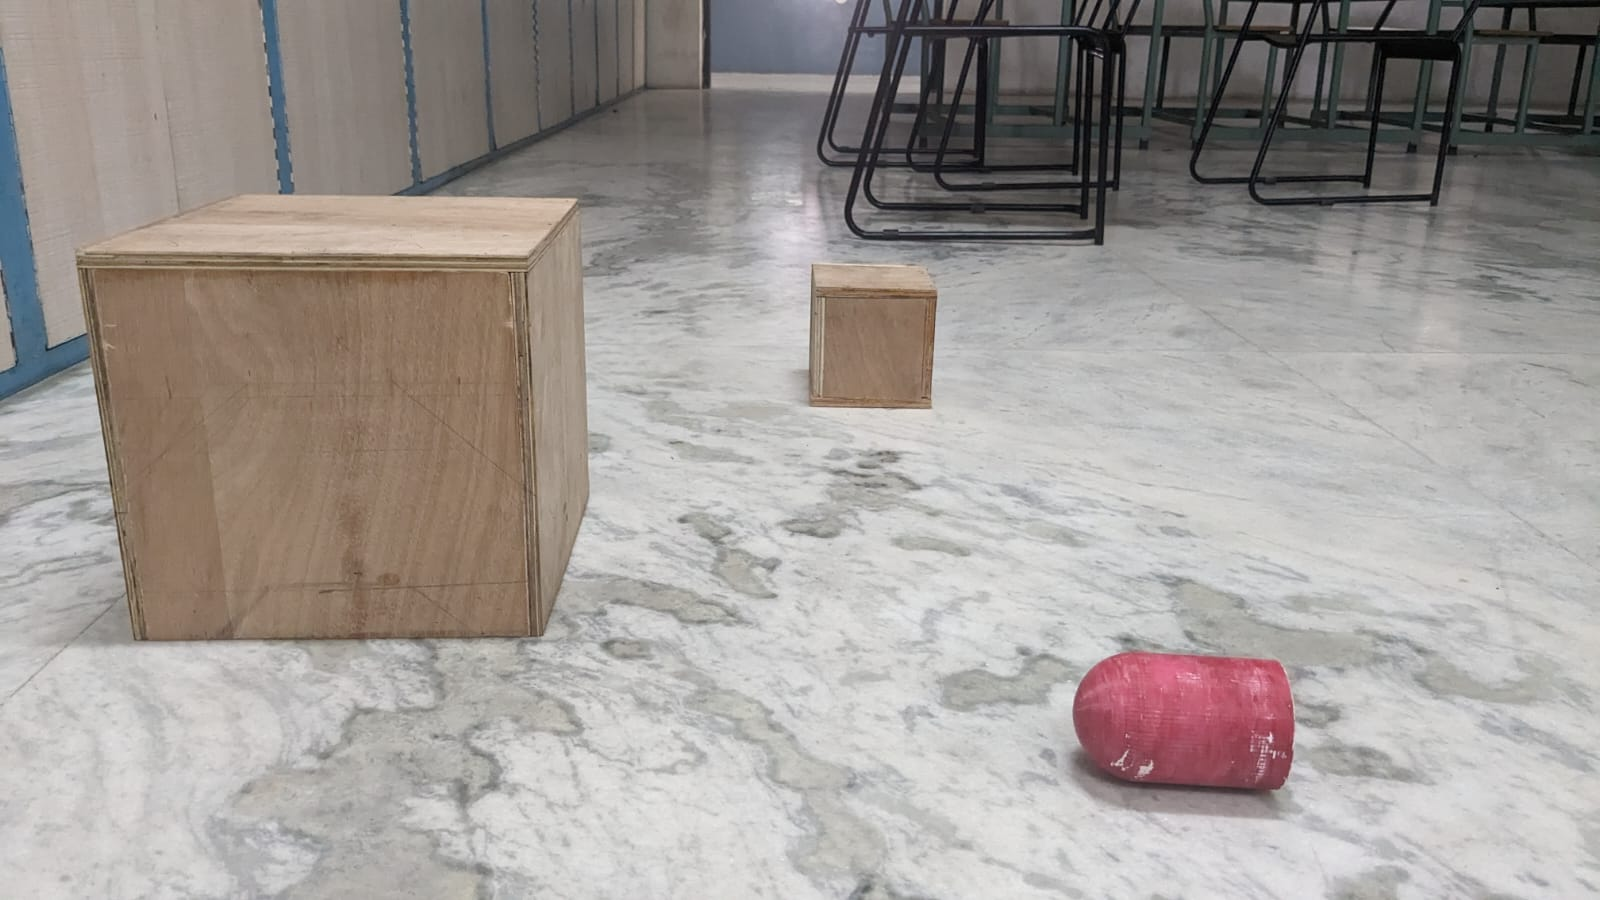150mm obstacle: (795, 259, 947, 422)
300mm obstacle: (64, 182, 598, 668)
testtube: (1062, 640, 1322, 813)
